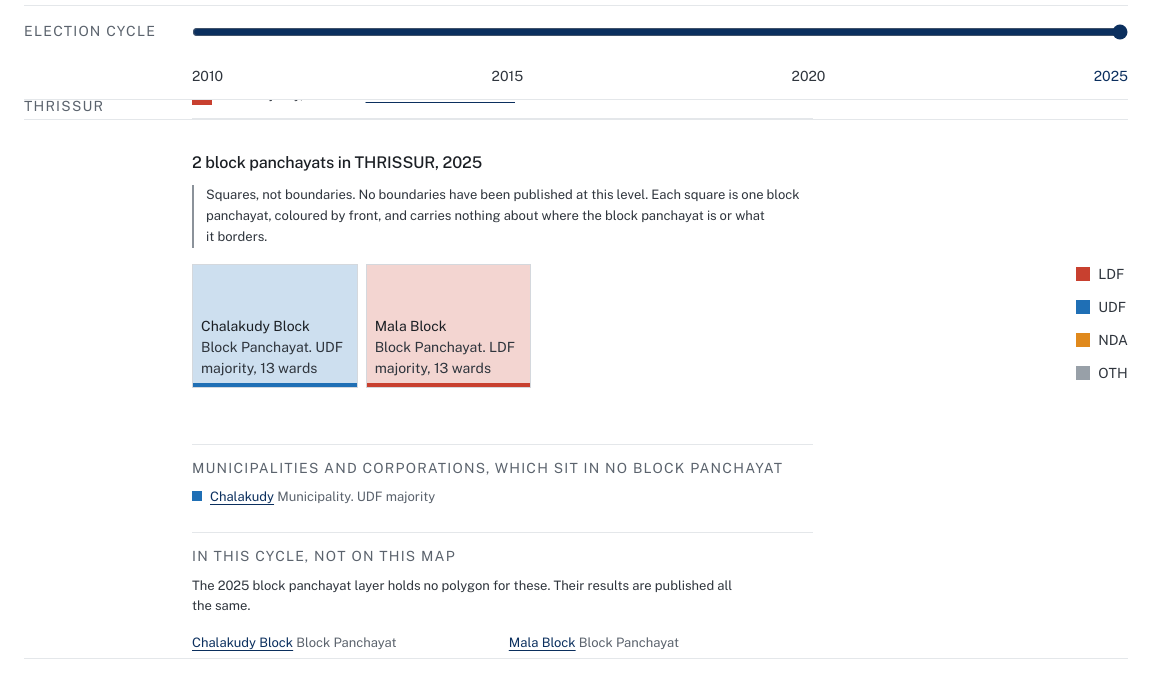
Scenario: the three elections a district holds › opens a block panchayat on the grama panchayats inside it
The image size is (1152, 685).
(page scrolled)
Click the button named "open the grama panchayats in Chalakudy Block" at coordinates (275, 326), box [192,264,358,388]
(page scrolled)
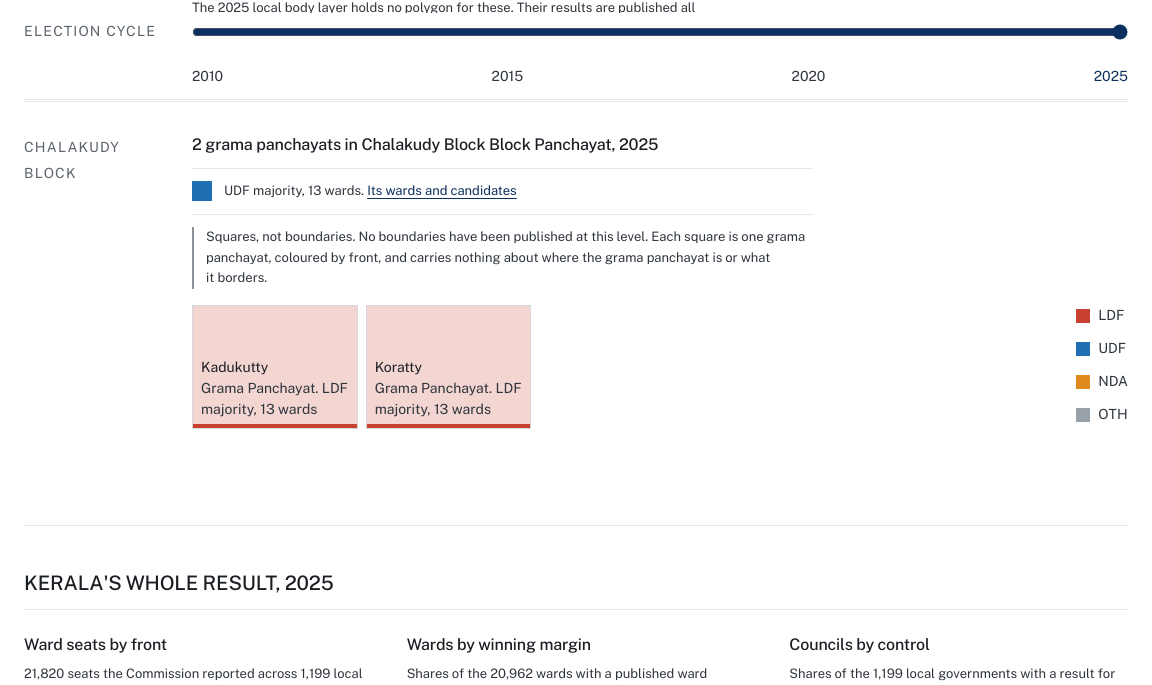
Check: the button named "open the wards of Kadukutty" is shown, box [192,305,358,429]
Check: the button named "open the wards of Koratty" is shown, box [366,305,531,429]
